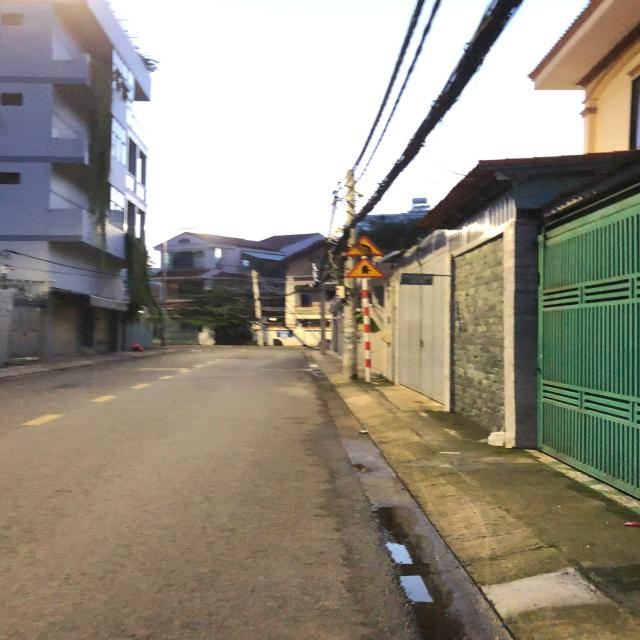Bien bao cho ngoat nguy hiem: (341, 232, 391, 257)
Bien bao giao nhau voi duong khong uu tien: (341, 258, 389, 279)
